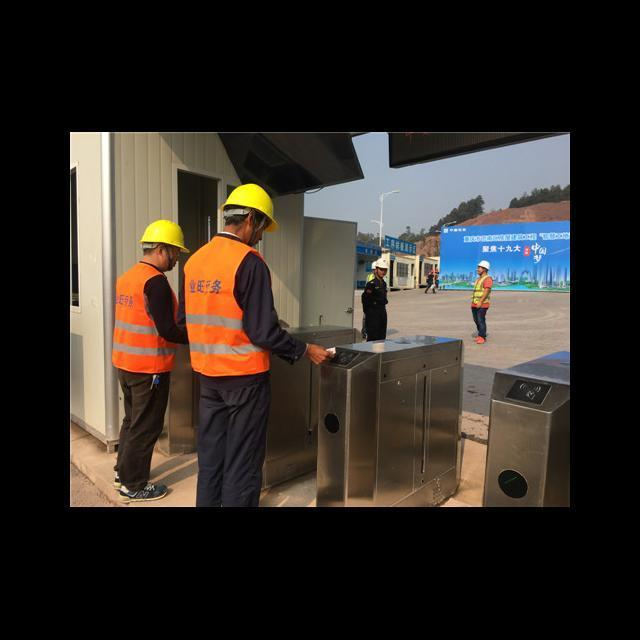helmet: (216, 178, 285, 232), (134, 208, 196, 260), (370, 248, 395, 277), (471, 252, 496, 274)
safety_vest: (175, 228, 296, 386), (100, 252, 183, 382), (468, 270, 493, 313)
